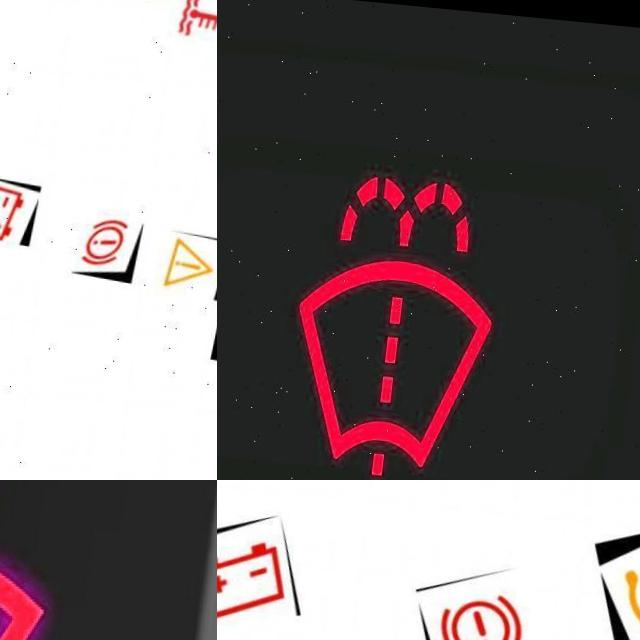Washer Fluid: (292, 163, 514, 471), (0, 480, 62, 640)
